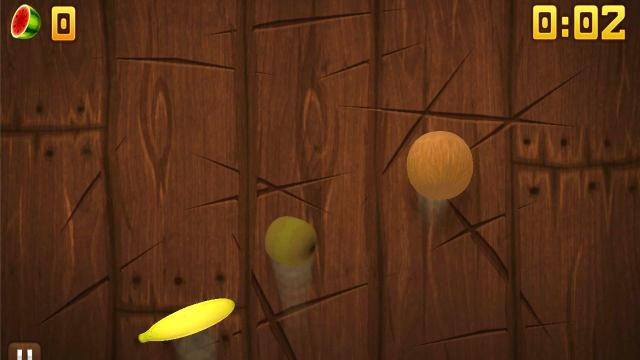fruit: (406, 130, 474, 200), (139, 297, 237, 343), (264, 216, 318, 266)
ignore: (10, 4, 42, 40)
